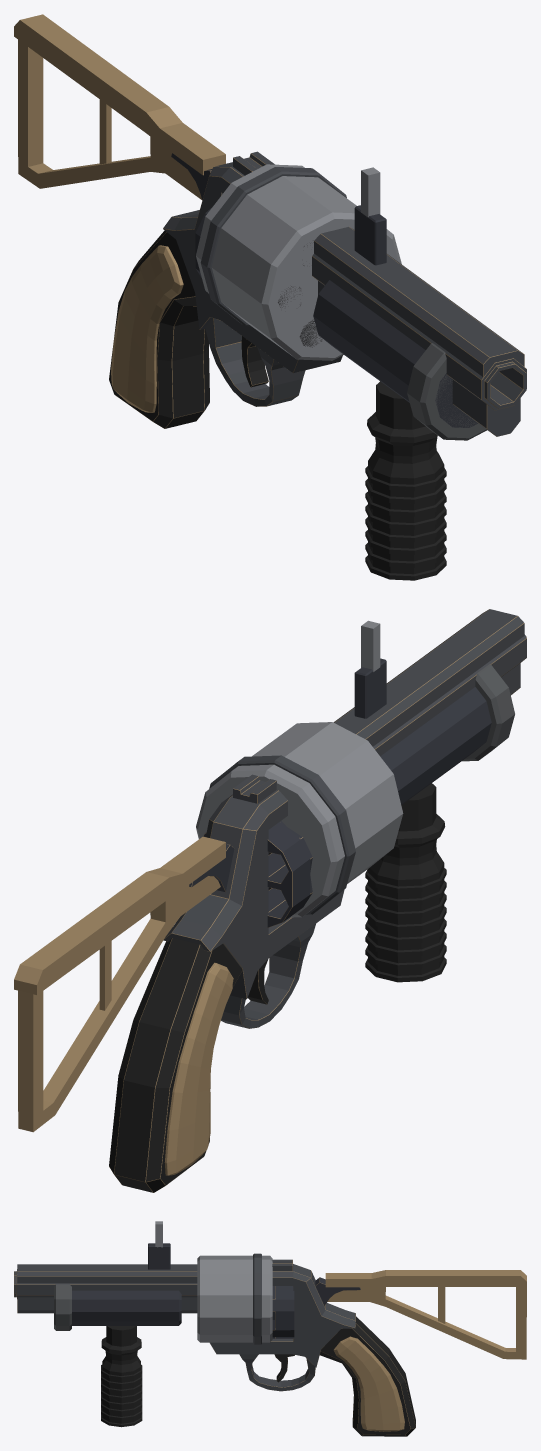
Rendered from grenade_launcher.glb.
3 views of the same model, one above another, from view 1: azimuth 30°, elevation 25°; view 2: azimuth 150°, elevation 25°; view 3: azimuth 270°, elevation 25° (orthographic). The views are drawn at different scales.
Parts seen in each view (by area): view 1: grenade_launcher; view 2: grenade_launcher; view 3: grenade_launcher.
Part boxes in pixels (left/top/right/bottom): grenade_launcher: left=14, top=14, right=526, bottom=580; grenade_launcher: left=14, top=609, right=526, bottom=1192; grenade_launcher: left=14, top=1221, right=526, bottom=1436.
Size of the model in its own units: 0.1071 by 0.2709 by 0.6.
